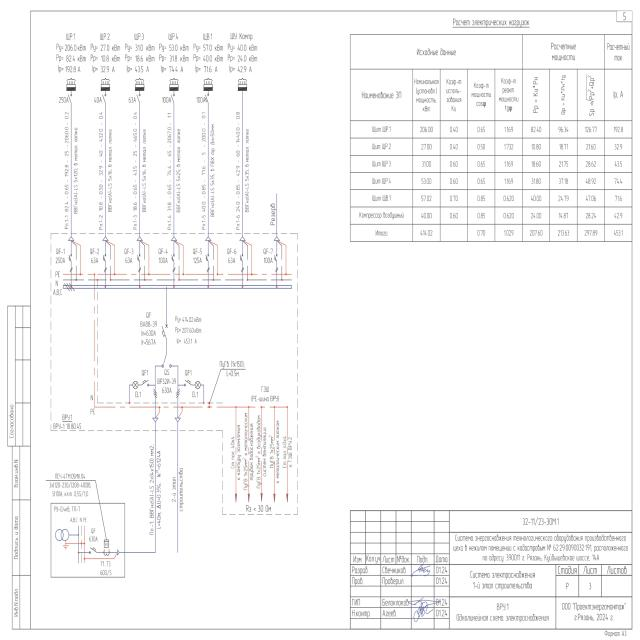-: (139, 320, 159, 346), (157, 376, 177, 396), (52, 422, 83, 431), (158, 256, 169, 266), (88, 256, 100, 265), (192, 256, 202, 266), (226, 256, 238, 264), (124, 256, 134, 265), (55, 256, 66, 264), (262, 256, 273, 264)
HL: (132, 380, 138, 390), (195, 380, 201, 390)
QF: (160, 322, 168, 342), (68, 253, 74, 273), (102, 254, 108, 274), (238, 252, 244, 272), (273, 252, 279, 272), (204, 253, 210, 273), (171, 252, 177, 272), (136, 252, 142, 272), (142, 378, 150, 388), (184, 379, 192, 388)
switch: (162, 352, 174, 370)
